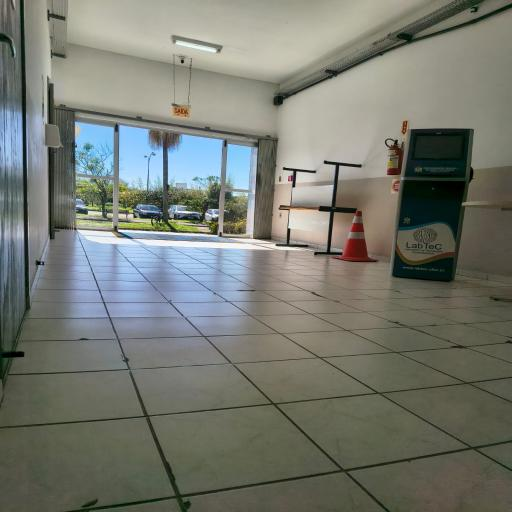cone: (333, 210, 375, 266)
